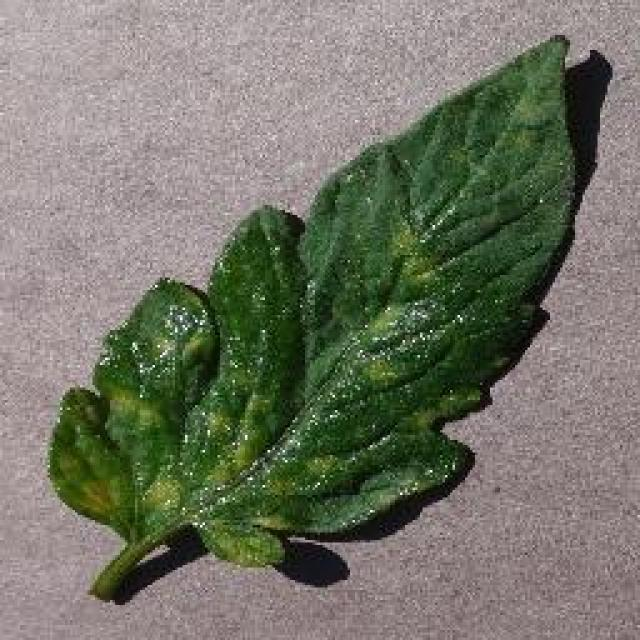Tomato___Leaf_Mold: (48, 38, 572, 592)
